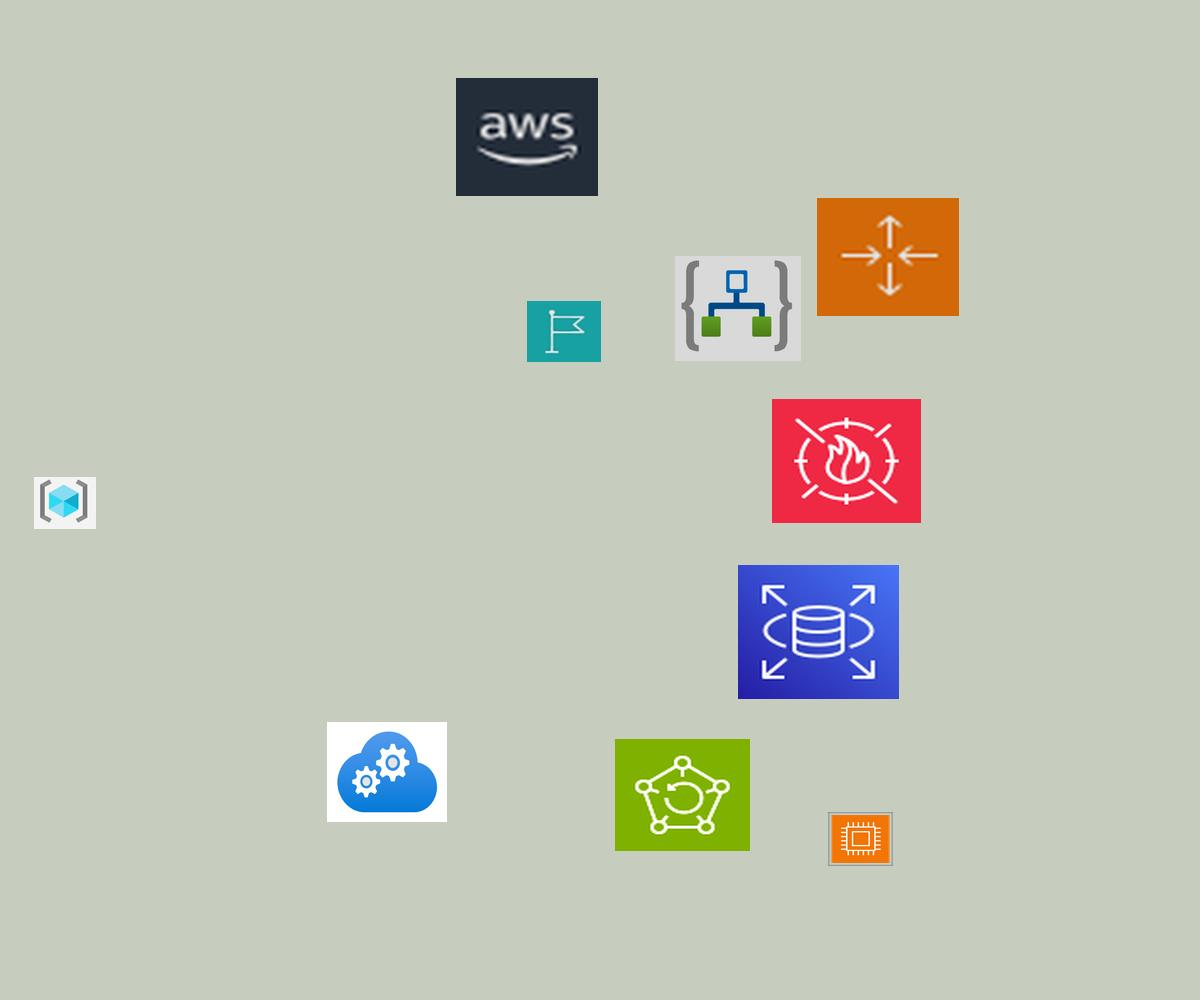AWS-Backup: (615, 739, 750, 851)
AWS-Category_Compute: (828, 812, 893, 866)
AWS-Cloud-logo: (456, 78, 598, 196)
AWS-RDS: (738, 565, 899, 699)
AWS-Region: (527, 301, 601, 362)
AWS-Scaling-group: (817, 198, 959, 316)
AWS-WAF: (772, 399, 921, 523)
Azure_cloud_services: (327, 722, 447, 822)
Azure_integration-204-Logic-Apps: (675, 256, 801, 361)
Azure_resource_group: (34, 477, 96, 529)
